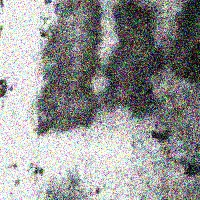inclusion: (177, 152, 200, 178), (150, 124, 171, 144)
patches: (37, 1, 103, 133), (106, 0, 165, 115), (166, 0, 200, 83)
